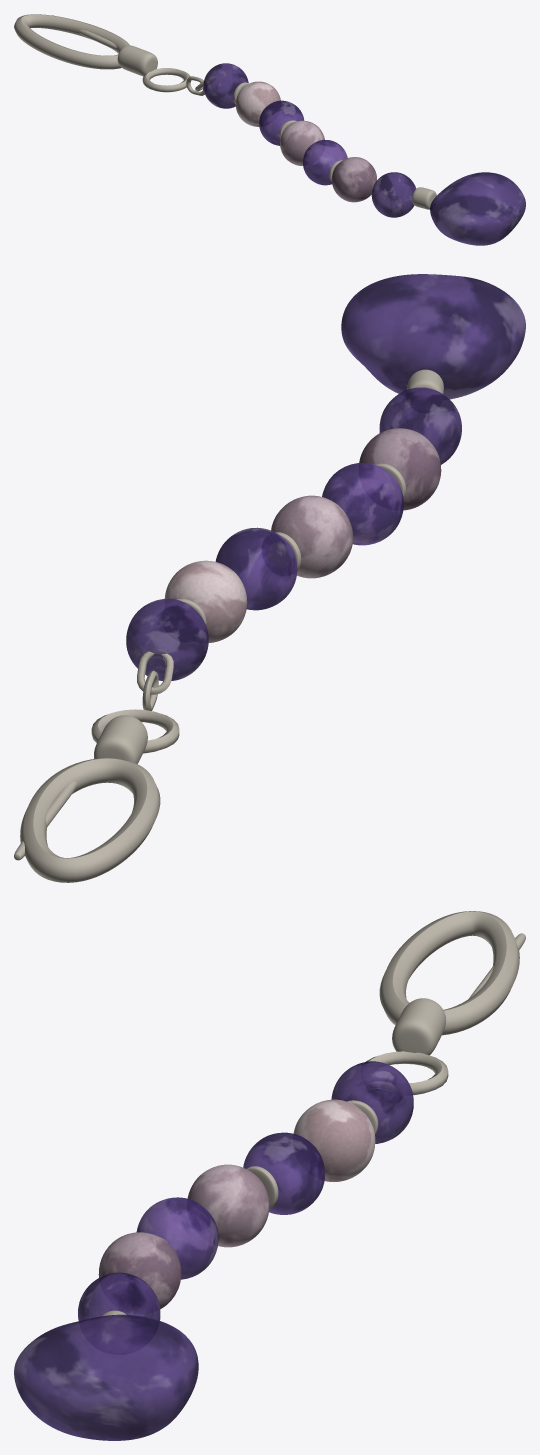
The model's file is standard.glb.
3 views of the same model, one above another, from view 1: azimuth 30°, elevation 25°; view 2: azimuth 150°, elevation 25°; view 3: azimuth 330°, elevation 25° (orthographic). The views are drawn at different scales.
Parts seen in each view (by area): view 1: bead_pebble_3, hak.001, bead_round_2.001, bead_round_0.002, bead_round_0, bead_round_1.001, bead_round_1, bead_round_0.001, bead_round_2, bead_peg_0.004, kolko.027, bead_peg_0.003; view 2: bead_pebble_3, hak.001, bead_round_0, bead_round_1.001, bead_round_0.001, bead_round_2, bead_round_1, bead_round_2.001, bead_round_0.002, bead_peg_0.004, kolko.027, ogniwo.001 (+1 smaller); view 3: bead_pebble_3, hak.001, bead_round_0.001, bead_round_1, bead_round_2, bead_round_1.001, bead_round_0, bead_round_2.001, bead_round_0.002, bead_peg_0.004, kolko.027.
Boxes of the visible parts, x1,y1,x2,y2 form: bead_pebble_3: (430, 172, 525, 245); hak.001: (14, 14, 129, 69); bead_round_2.001: (331, 157, 376, 202); bead_round_0.002: (371, 172, 416, 217); bead_round_0: (203, 63, 248, 108); bead_round_1.001: (303, 140, 347, 185); bead_round_1: (235, 81, 280, 126); bead_round_0.001: (280, 120, 324, 165); bead_round_2: (259, 100, 304, 145); bead_peg_0.004: (117, 45, 157, 76); kolko.027: (142, 68, 190, 92); bead_peg_0.003: (412, 187, 436, 209); bead_pebble_3: (341, 274, 525, 399); hak.001: (20, 758, 160, 882); bead_round_0: (126, 598, 208, 680); bead_round_1.001: (322, 463, 403, 545); bead_round_0.001: (271, 495, 352, 578); bead_round_2: (215, 527, 297, 610); bead_round_1: (164, 560, 247, 642); bead_round_2.001: (359, 428, 441, 510); bead_round_0.002: (379, 387, 461, 464); bead_peg_0.004: (94, 715, 147, 763); kolko.027: (91, 709, 179, 753); ogniwo.001: (137, 649, 173, 694); bead_pebble_3: (14, 1314, 198, 1440); hak.001: (379, 911, 519, 1035); bead_round_0.001: (187, 1164, 269, 1247); bead_round_1: (293, 1099, 375, 1181); bead_round_2: (243, 1132, 324, 1214); bead_round_1.001: (136, 1197, 218, 1279); bead_round_0: (331, 1061, 413, 1143); bead_round_2.001: (98, 1232, 181, 1308); bead_round_0.002: (78, 1272, 160, 1320); bead_peg_0.004: (392, 998, 445, 1055); kolko.027: (366, 1051, 448, 1095).
Size of the model in its own units: 3.4 by 1.04 by 11.31.
7 materials, 6 textured.
